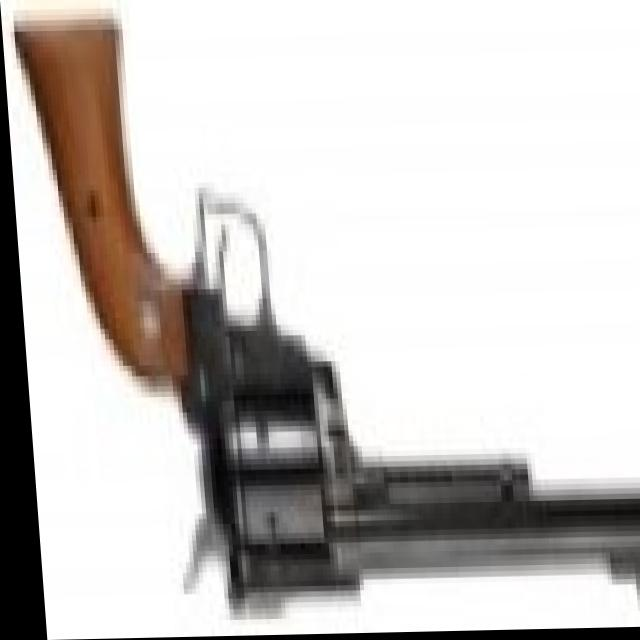handgun: (14, 21, 640, 640)
